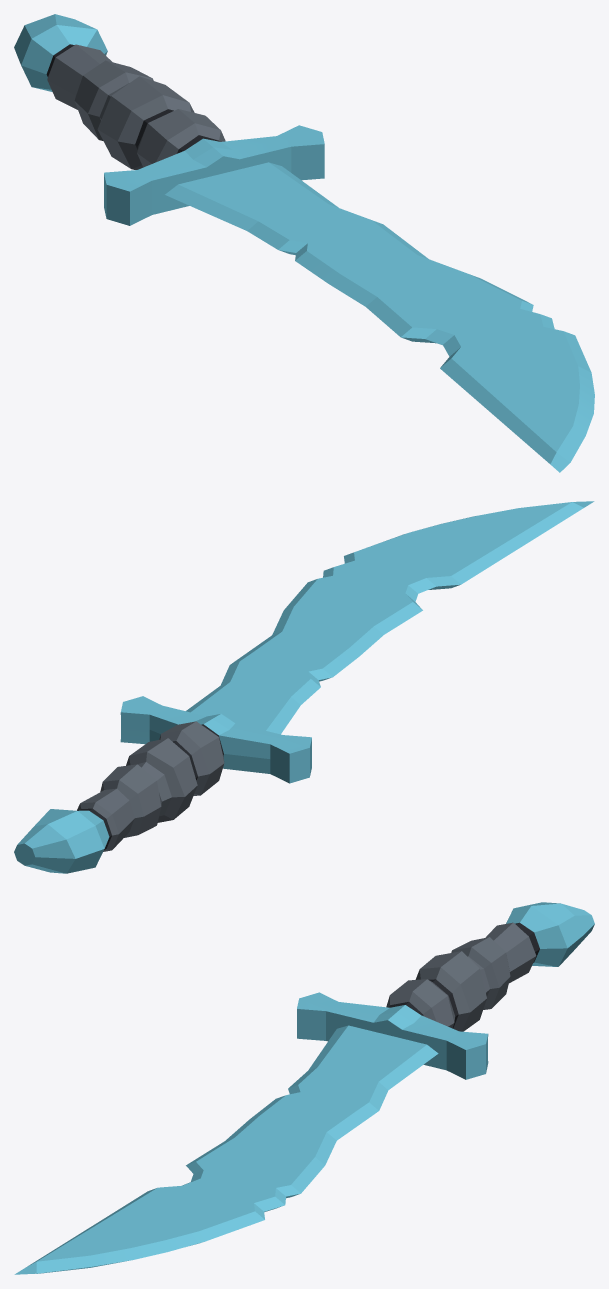
Rendered from phase-knife.glb.
3 renders of one model, top to bottom at view 1: azimuth 30°, elevation 25°; view 2: azimuth 150°, elevation 25°; view 3: azimuth 330°, elevation 25°, orthographic. The views are drawn at different scales.
Parts seen in each view (by area): view 1: m; view 2: m; view 3: m.
Part boxes in pixels (x1,y1,x2,y2): m: (14, 14, 594, 472); m: (14, 501, 594, 873); m: (14, 902, 594, 1274).
Bounding box in the file's own units: 0.0428 × 0.016 × 0.2.
